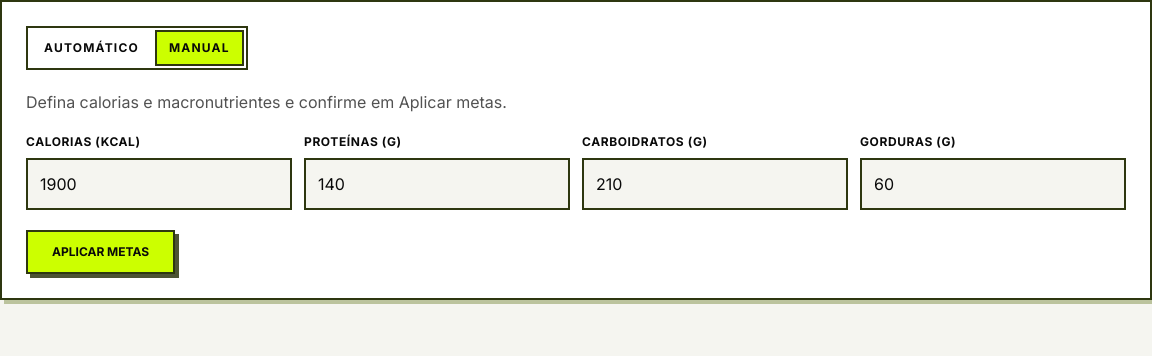
it: Separação das tarefas de perfil e configurações › com meta salva em modo manual › voltar para MANUAL sem confirmar descarta o cálculo e restaura o valor salvo
The width and height of the screenshot is (1152, 356).
Click the button "AUTOMÁTICO": (92, 48) [30,30,153,66]
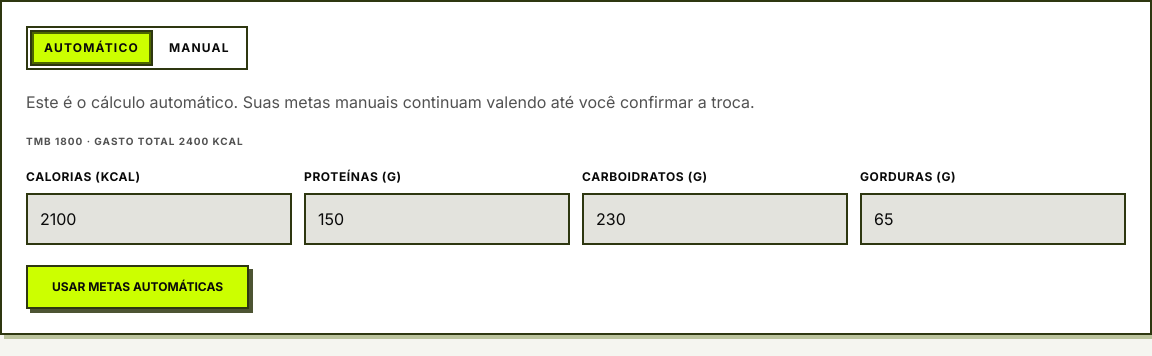
Click the button "MANUAL": (199, 48) [155,30,244,66]
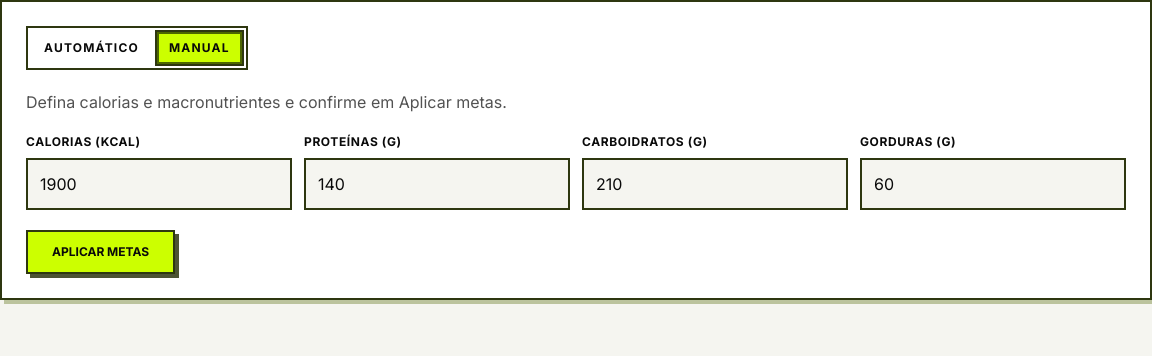
Check: the number field labelled "CALORIAS (KCAL)" holds "1900", box [26,158,292,210]
Check: the button "APLICAR METAS" is shown, box [26,230,175,274]
